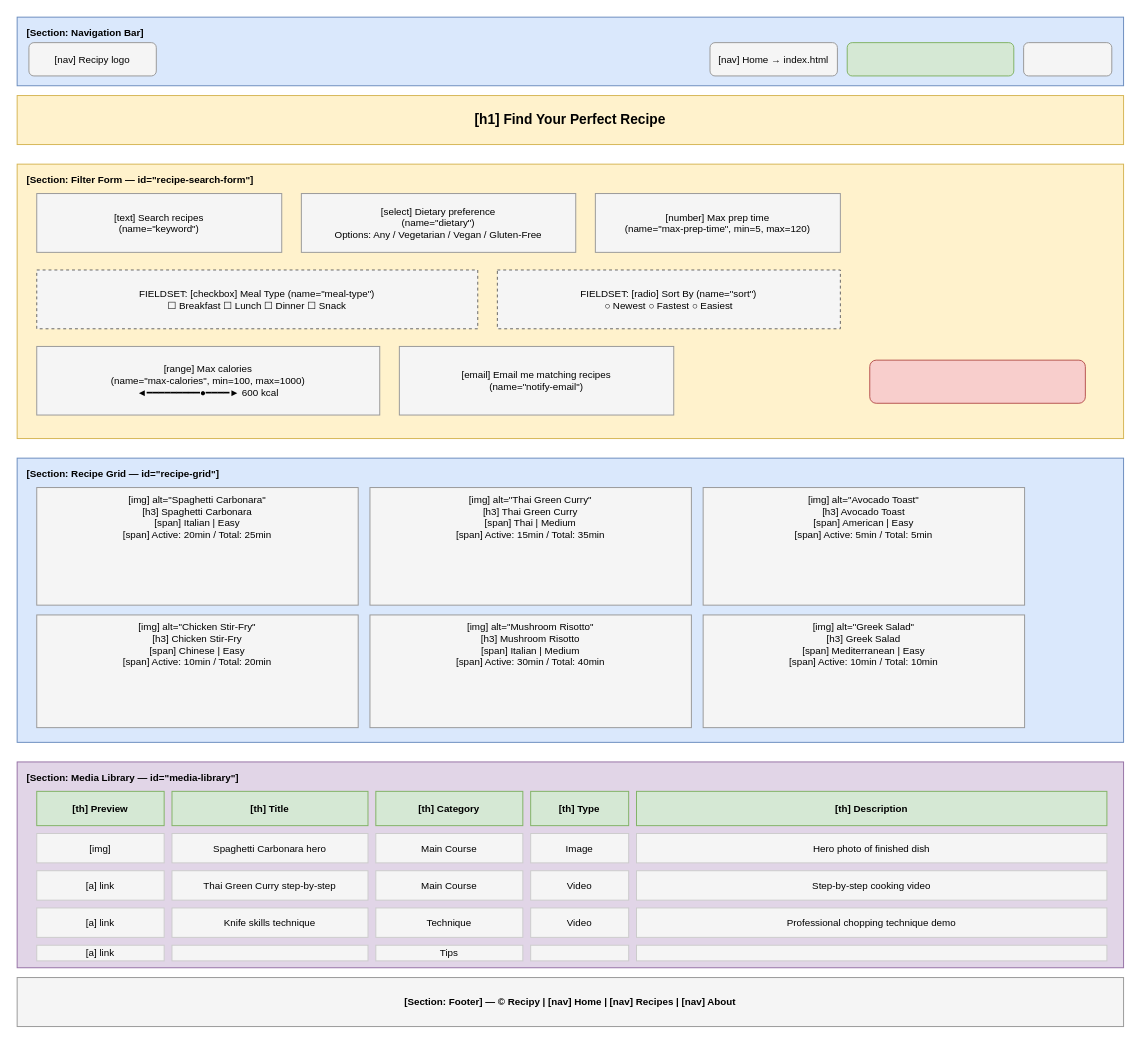
Image size: 1141x1044. Some labels were removed from this diagram. Here are the shapes that lost their labels. From the top down, the centre of each, then its label:
(930,59): [nav] Recipes → recipes.html (ACTIVE)
(1067,59): [nav] About → about.html
(977,381): [submit] Search Recipes
(269,952): Pantry essentials guide
(579,952): Audio
(871,952): Audio guide to stocking your pantry
